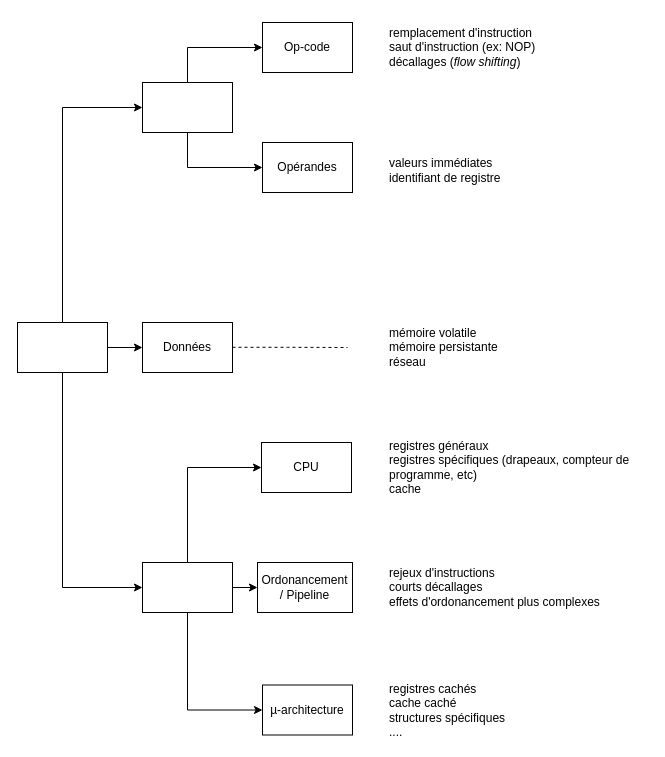
Image size: 665x757. Some labels were removed from this diagram. The box of each missing label's shape, as (x1, y1, x2, y2) in pixels:
Architecture: (142, 562, 232, 612)
Instructions: (142, 82, 232, 132)
Modèles: (16, 322, 108, 372)
